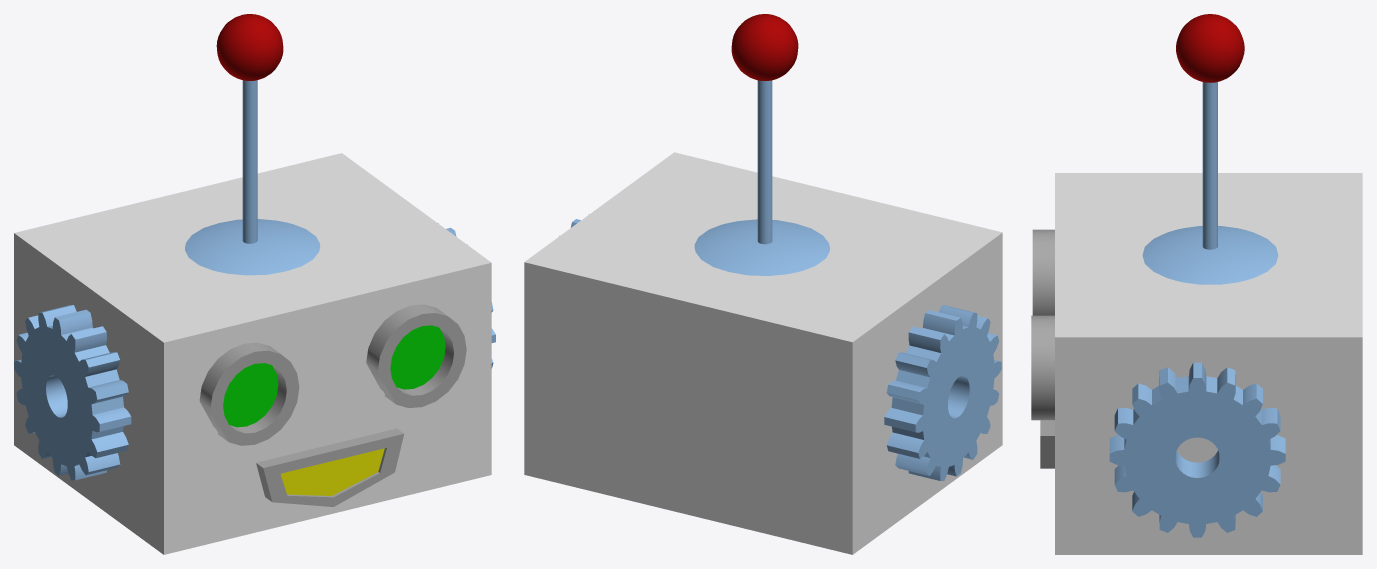
Rendered from DetaHead.fbx.
3 views of the same model, side by side, from view 1: azimuth 30°, elevation 25°; view 2: azimuth 150°, elevation 25°; view 3: azimuth 270°, elevation 25° (orthographic). The views are drawn at different scales.
Visible parts, largest first — view 1: DetaHead; view 2: DetaHead; view 3: DetaHead.
Part boxes in pixels (x1,y1,x2,y2): DetaHead: (14,14,495,554); DetaHead: (524,14,1002,554); DetaHead: (1031,14,1362,554).
Bounding box in the file's own units: 0.7938 × 0.8617 × 0.5693.
